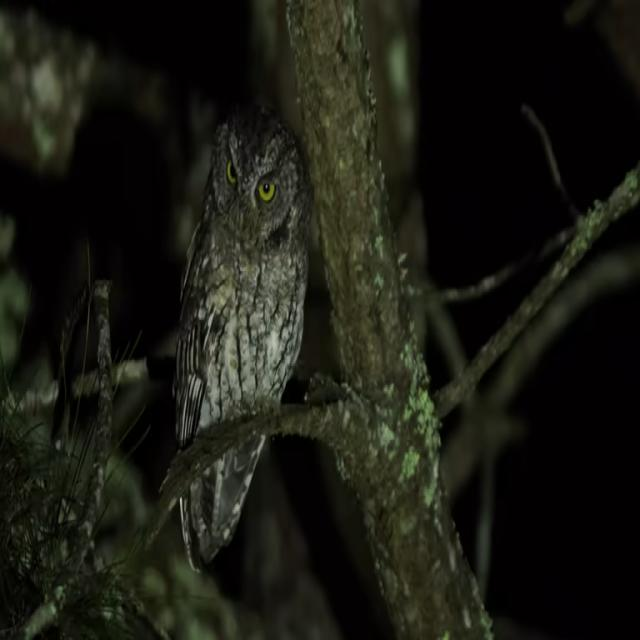owl: (178, 100, 313, 388)
